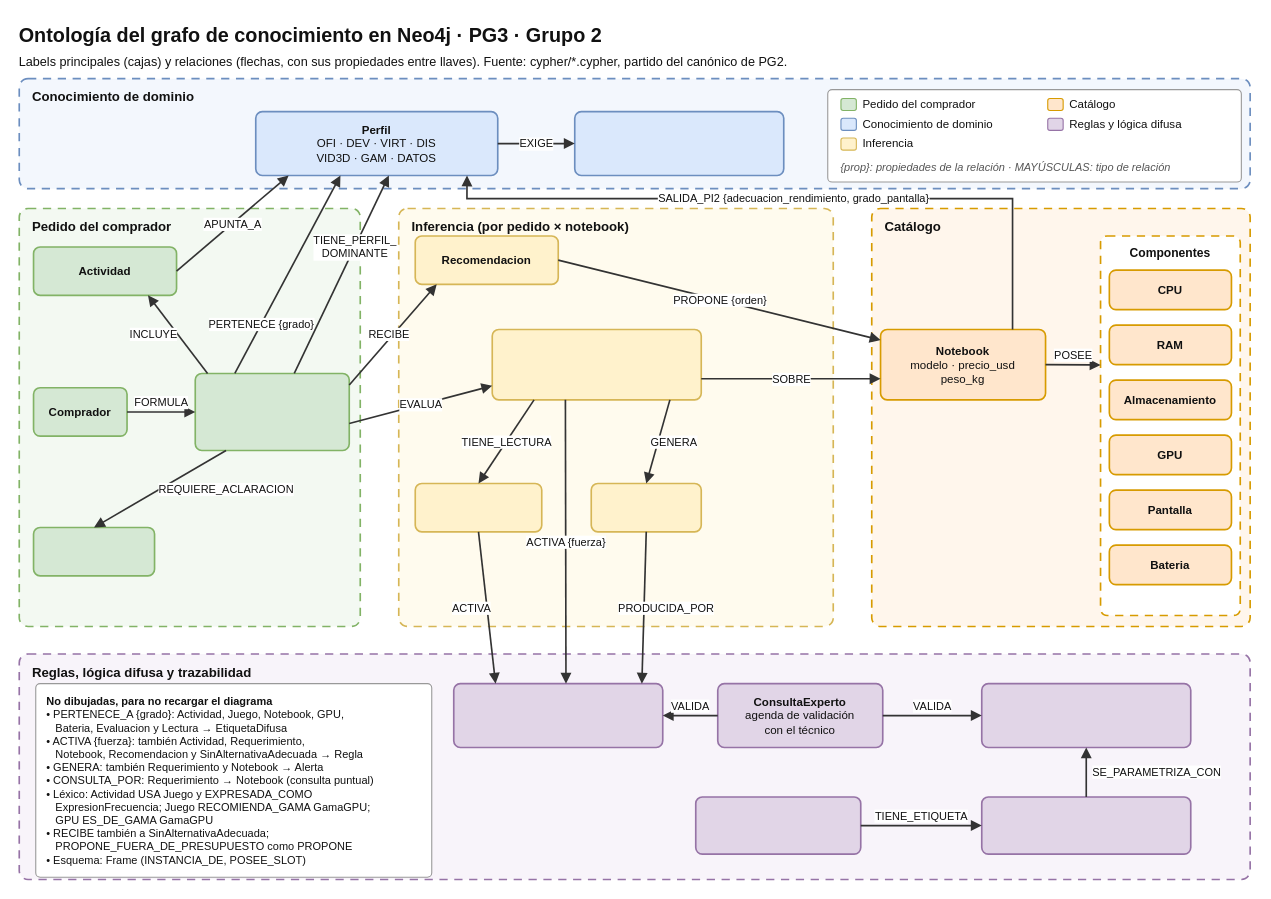
Some shapes in this 1271 by 899 pixel diagram are drawn without their labels. The centre of each missing label's shape, as x and y in pixels:
"Alerta" belongs at (x=646, y=507).
"EtiquetaDifusa baja · media · alta" belongs at (x=1085, y=825).
"Evaluacion una por pedido × notebook estado, grados, riesgo" belongs at (x=596, y=364).
"Lectura escenario peor/mejor" belongs at (x=478, y=507).
"Parametro valor · origen estado_validacion «sin validar»" belongs at (x=1085, y=715).
"Pregunta" belongs at (x=93, y=551).
"Regla ReglaDifusa · ReglaCrisp REC-R8 · FZ-R3 · GM-RD1…" belongs at (x=557, y=715).
"Requerimiento presupuesto_usd prioridad" belongs at (x=272, y=411).
"Requisito ram_gb · ssd_gb · gama_cpu virtualizacion · gama_gpu" belongs at (x=678, y=143).
"VariableDifusa autonomia_h · grado_gpu…" belongs at (x=777, y=825).
